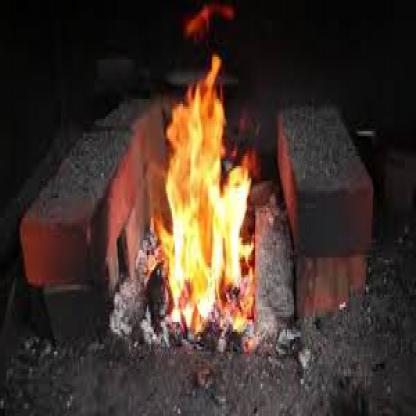Fire: (163, 53, 247, 332)
